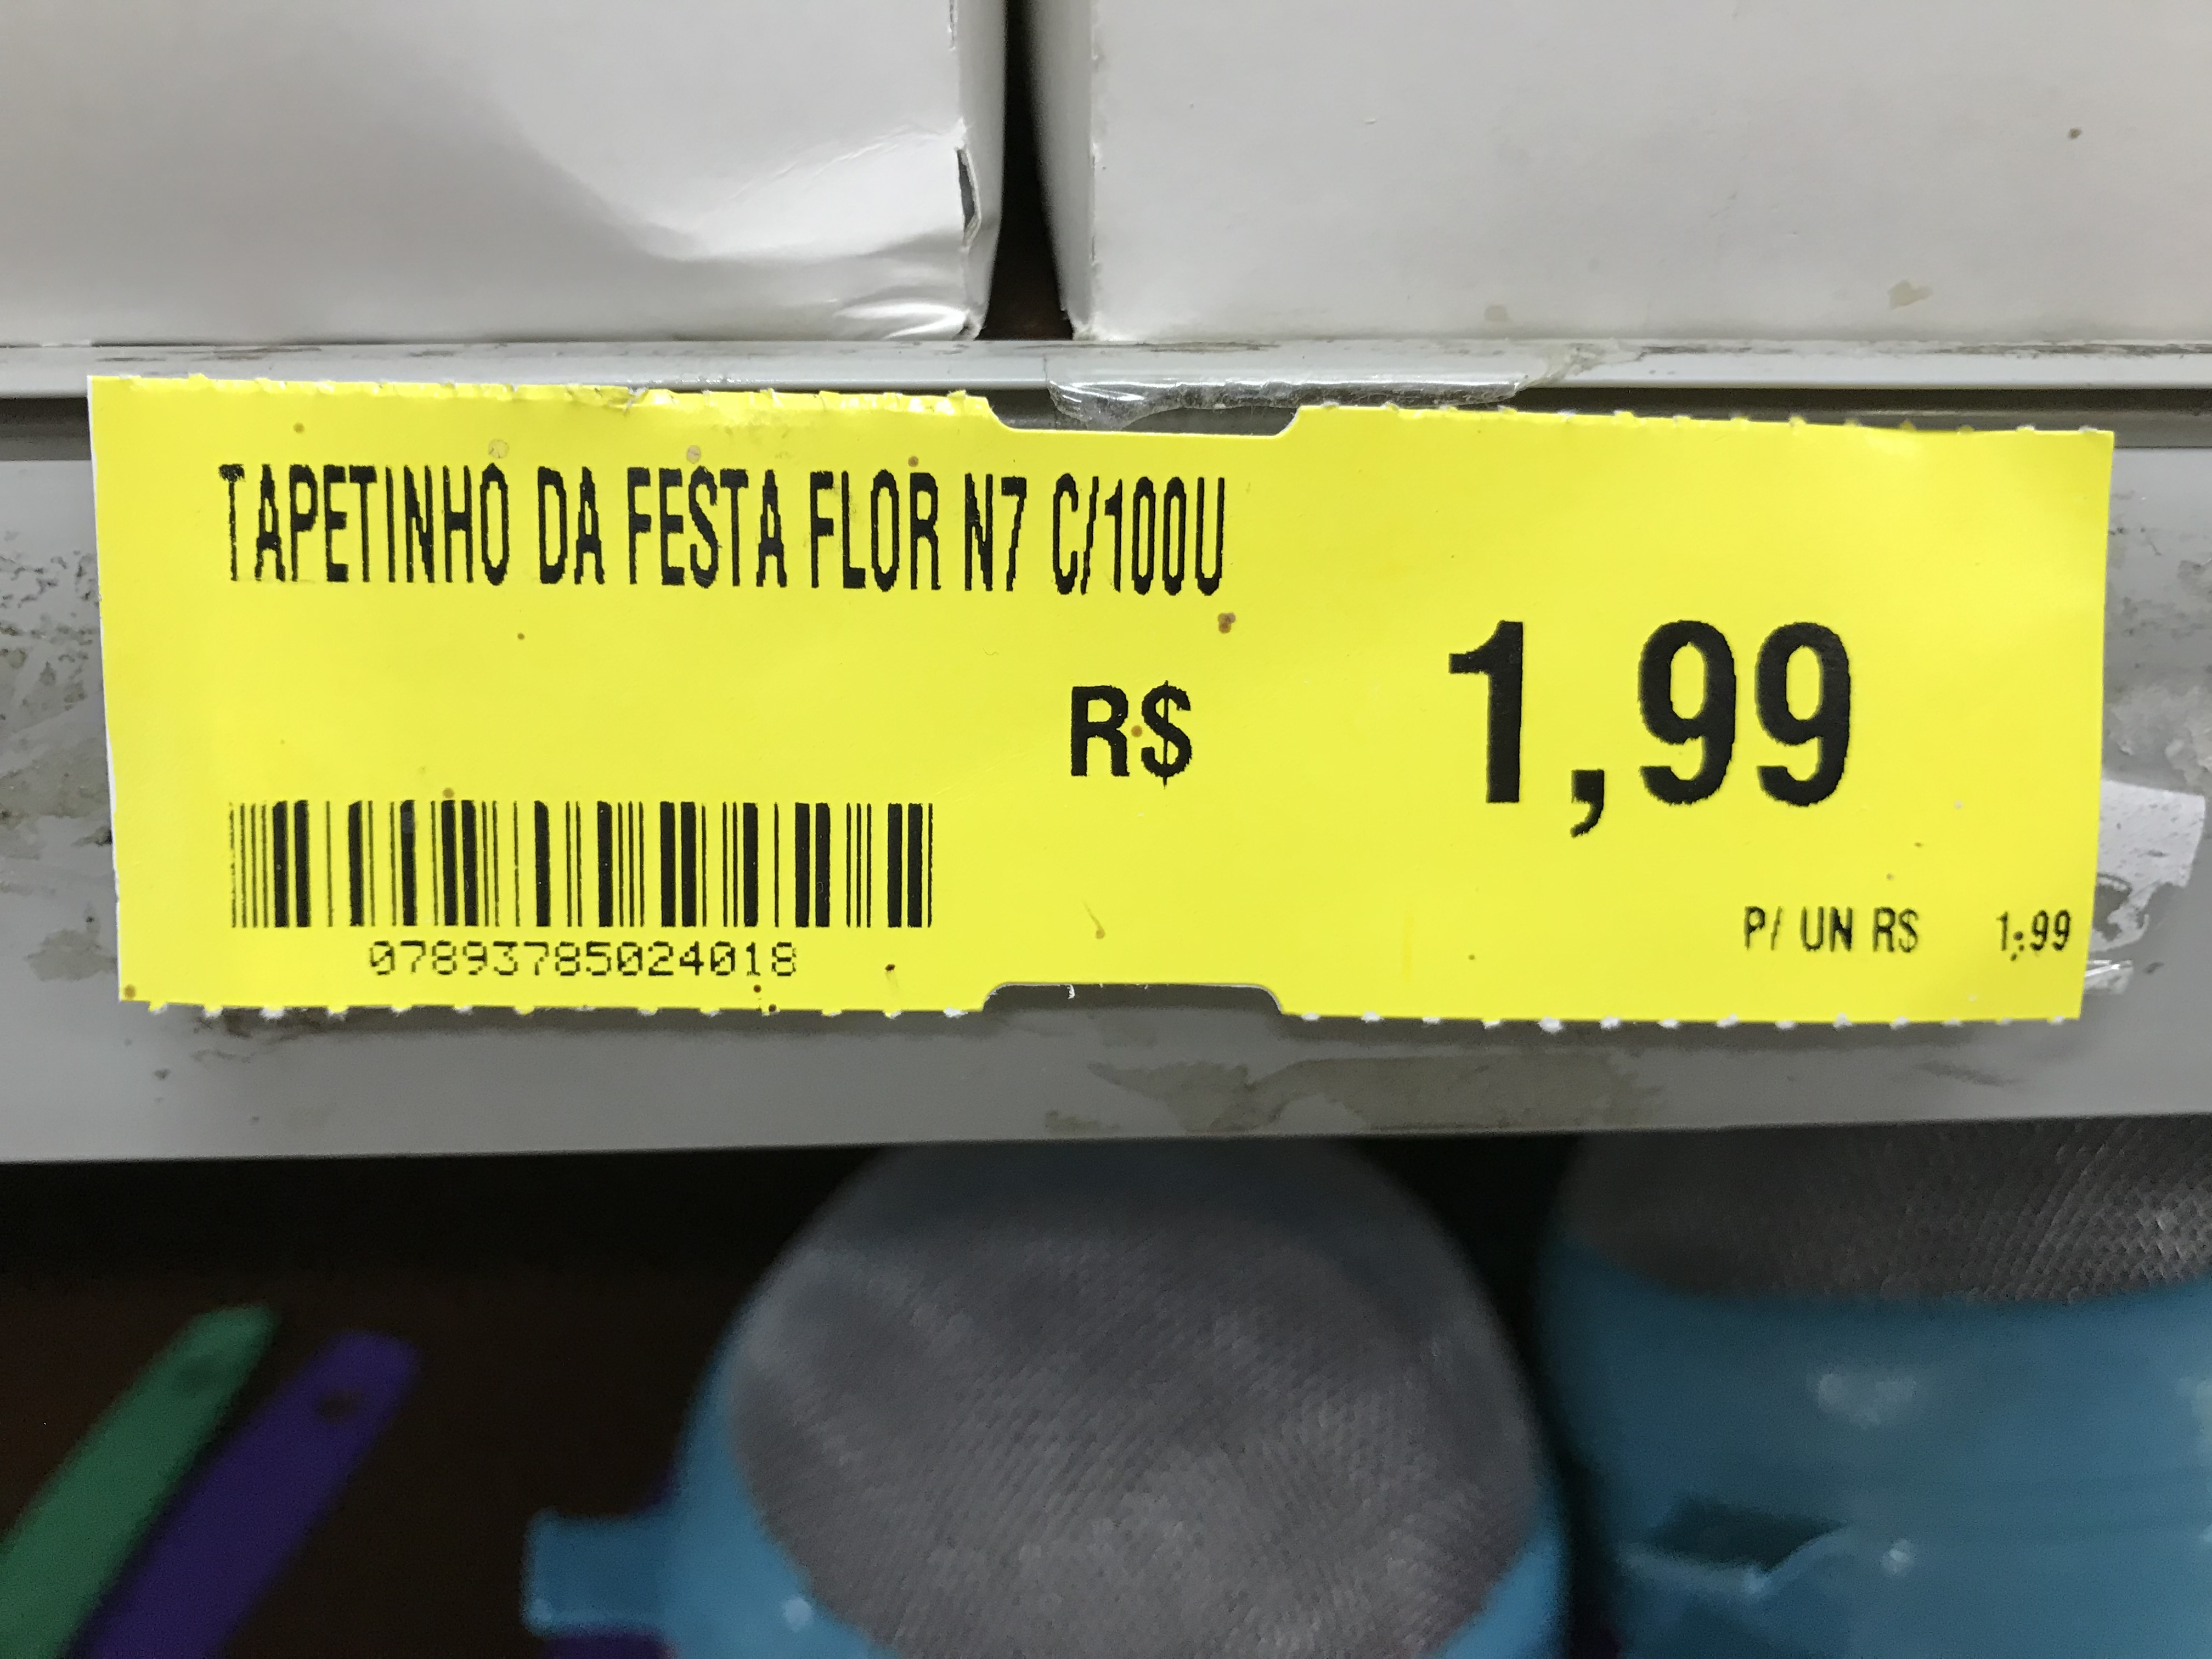estampa: (68, 364, 2125, 1040)
